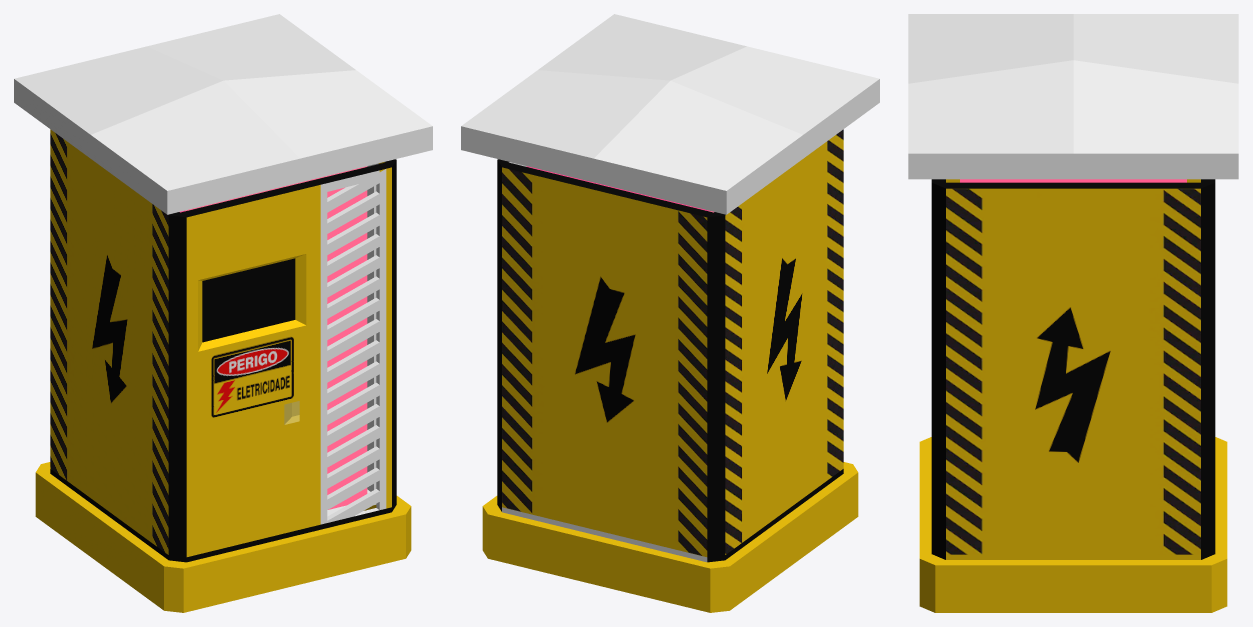
File: Bateria Model.fbx
3 renders of one model, left to right at view 1: azimuth 30°, elevation 25°; view 2: azimuth 150°, elevation 25°; view 3: azimuth 270°, elevation 25°, orthographic. The views are drawn at different scales.
Visible parts, largest first — view 1: pCube2; view 2: pCube2; view 3: pCube2.
Part boxes in pixels (bbox=[...]): pCube2: bbox=[14, 14, 432, 612]; pCube2: bbox=[461, 14, 879, 612]; pCube2: bbox=[908, 14, 1238, 612].
Bounding box in the file's own units: 1.17 × 1.9 × 1.17.
